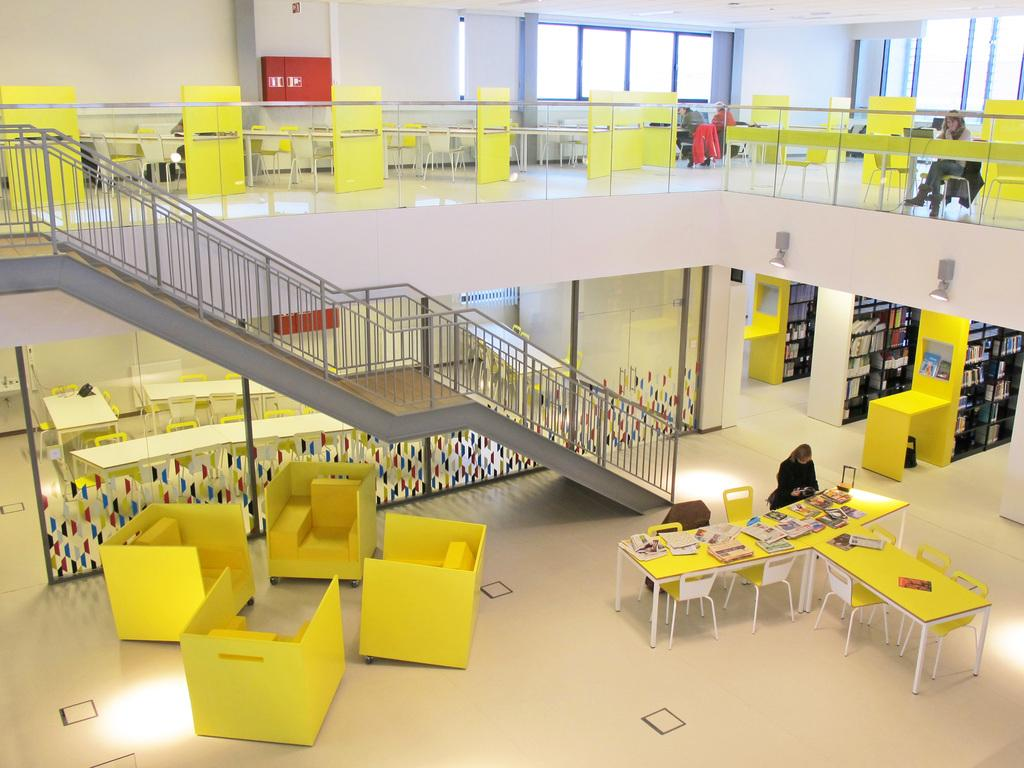Chair: (326, 508, 474, 692), (868, 549, 957, 659), (81, 118, 196, 200), (897, 566, 990, 663), (814, 559, 893, 653), (724, 550, 803, 634), (387, 118, 478, 186), (247, 115, 333, 186), (509, 113, 592, 182), (658, 566, 726, 650), (841, 529, 897, 616), (929, 126, 975, 219), (774, 130, 826, 198), (896, 126, 929, 198), (31, 397, 60, 463), (682, 111, 716, 162), (724, 482, 755, 527), (727, 120, 756, 168), (178, 372, 214, 405), (92, 430, 131, 454), (230, 396, 266, 421), (51, 460, 80, 487), (166, 417, 200, 435), (170, 393, 193, 416), (218, 415, 251, 429), (51, 379, 81, 393), (261, 405, 296, 416), (101, 388, 112, 406), (109, 403, 121, 419), (232, 369, 252, 376)
